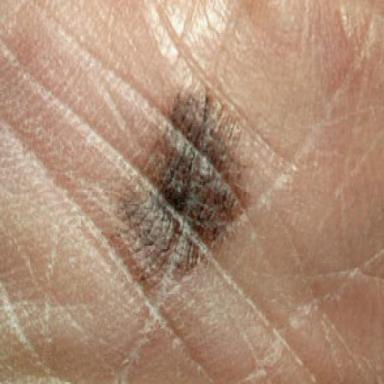Melanoma: (111, 83, 257, 292)
